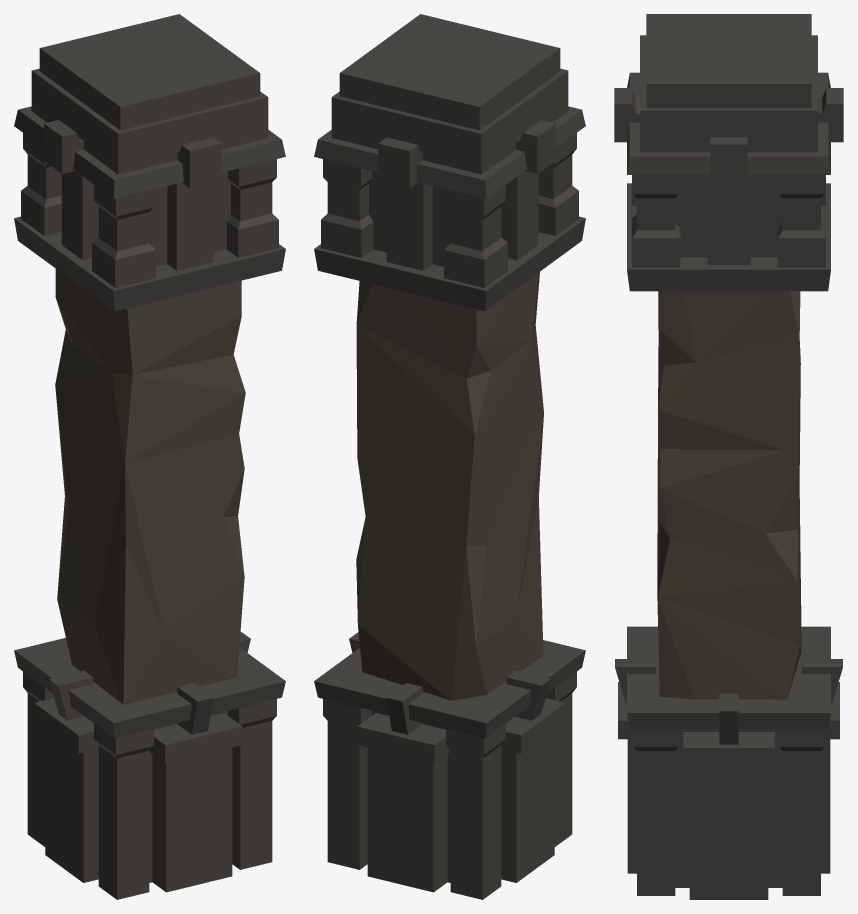
Rendered from Pillar_2.fbx.
3 views of the same model, side by side, from view 1: azimuth 30°, elevation 25°; view 2: azimuth 150°, elevation 25°; view 3: azimuth 270°, elevation 25° (orthographic). The views are drawn at different scales.
Visible parts, largest first — view 1: polySurface1295; view 2: polySurface1295; view 3: polySurface1295.
Part boxes in pixels (<box>): polySurface1295: <box>14,14,285,899</box>; polySurface1295: <box>314,14,585,899</box>; polySurface1295: <box>614,14,843,899</box>.
Bounding box in the file's own units: 2.05 × 7.96 × 2.05.
